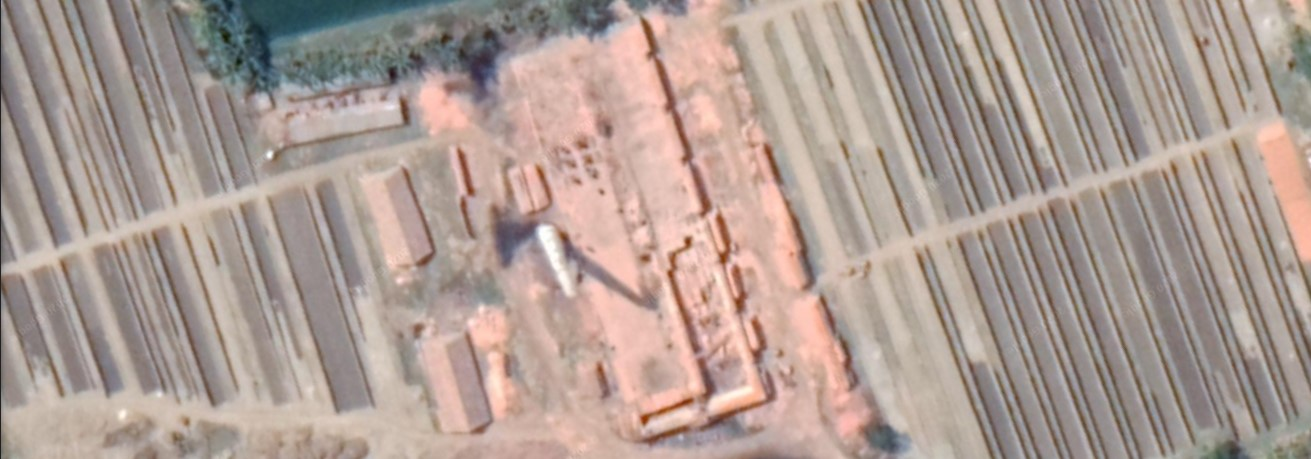kiln: (464, 117, 732, 444)
